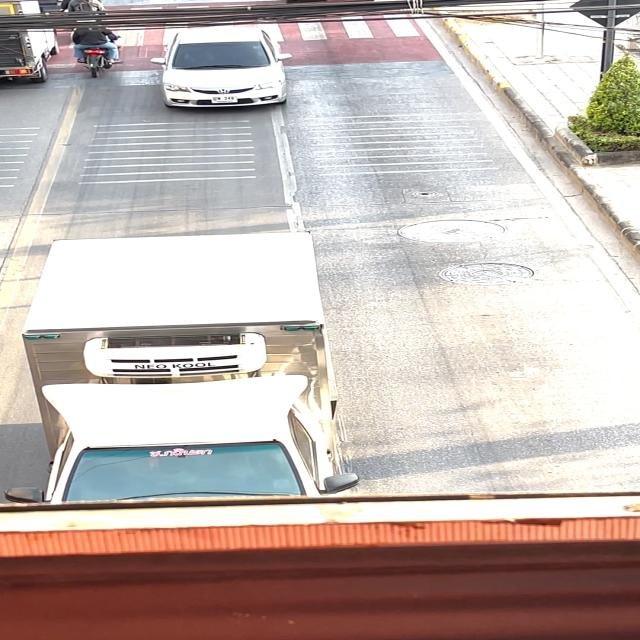car: (6, 229, 414, 503), (137, 20, 298, 120)
